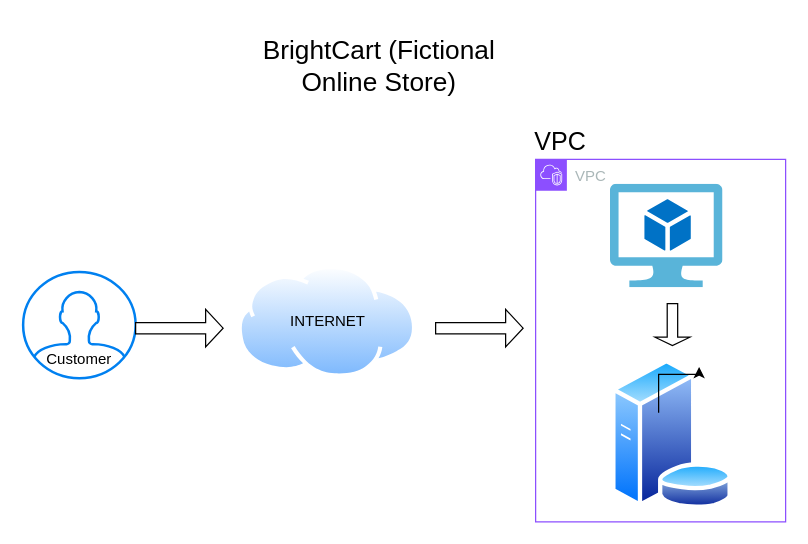
Some shapes in this 808 by 544 pixel diagram are drawn without their labels. The centre of each missing label's shape, as x and y in pixels:
"Product Database" belongs at (x=671, y=434).
"Web Server VM" belongs at (x=666, y=235).
